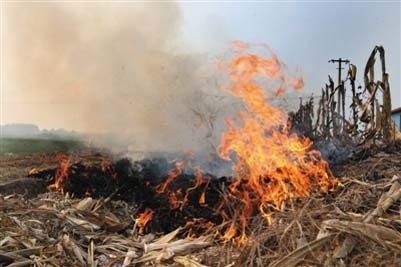fire: (148, 38, 344, 236), (49, 152, 74, 191)
